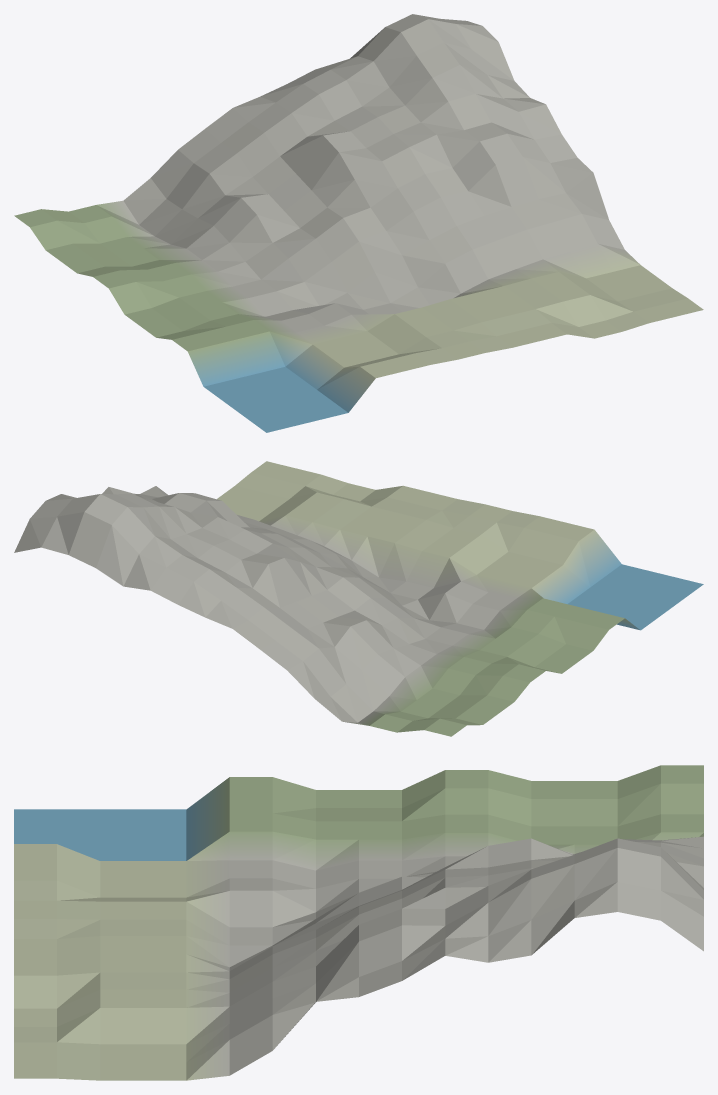
3 views of the same model, one above another, from view 1: azimuth 30°, elevation 25°; view 2: azimuth 150°, elevation 25°; view 3: azimuth 270°, elevation 25° (orthographic). The views are drawn at different scales.
Size of the model in its own units: 32 by 11.09 by 32.
